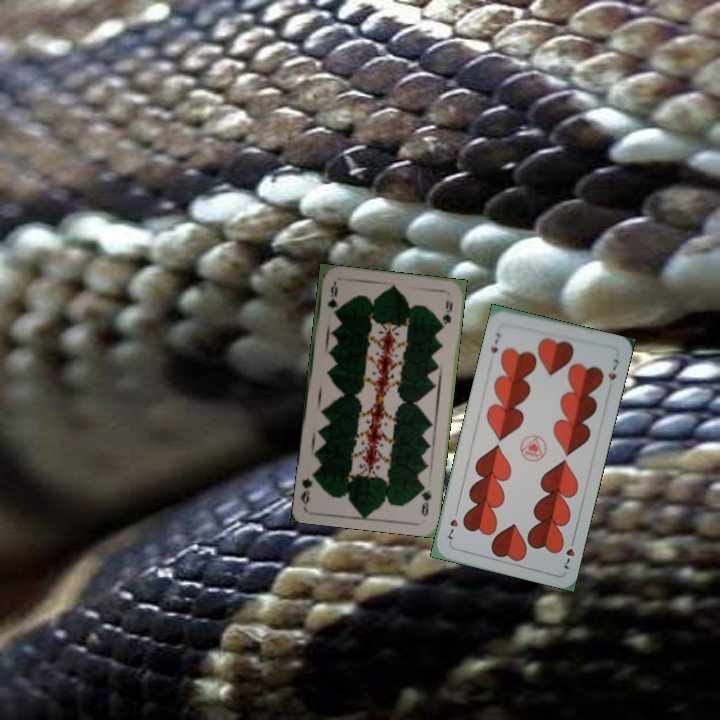G9: (417, 480, 434, 519), (323, 280, 340, 318)
H7: (560, 533, 578, 572), (486, 328, 503, 356)
